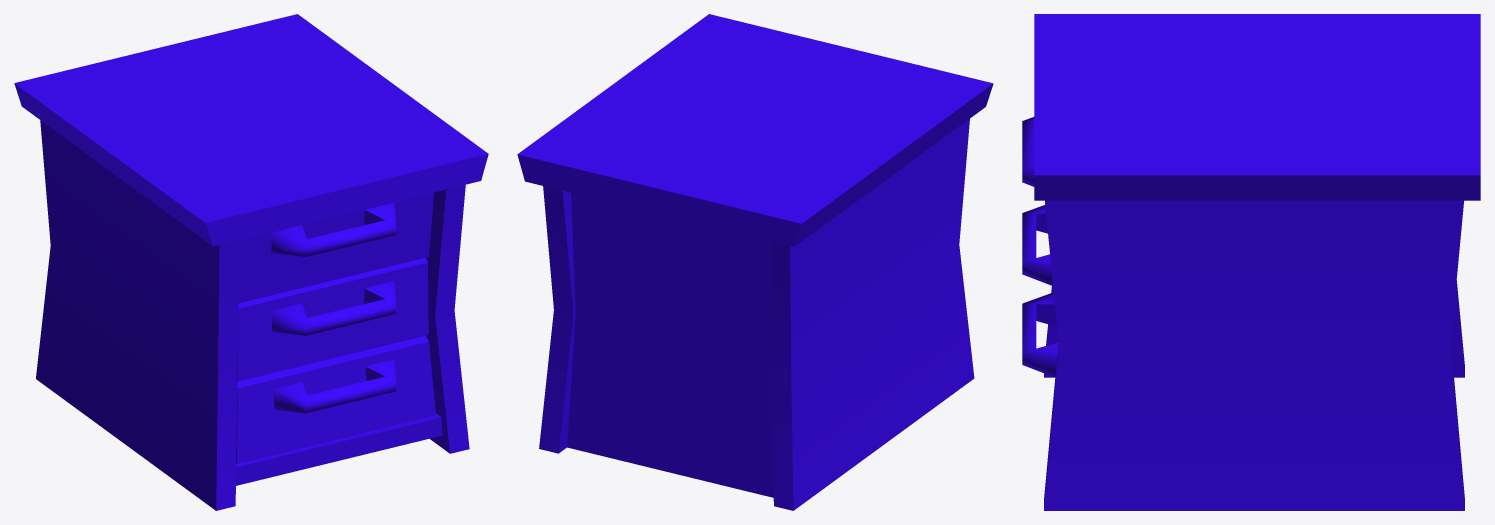
File: office_pack_drawer_small_1_meshCollider.fbx
The picture shows the model from 3 angles, left to right: view 1: azimuth 30°, elevation 25°; view 2: azimuth 150°, elevation 25°; view 3: azimuth 270°, elevation 25°; orthographic projection. The views are drawn at different scales.
Parts seen in each view (by area): view 1: office_pack_drawer_small_1_meshCollider, office_pack_drawer_small_box_3_meshCollider, office_pack_drawer_small_box_2_meshCollider, office_pack_drawer_small_box_1_meshCollider; view 2: office_pack_drawer_small_1_meshCollider; view 3: office_pack_drawer_small_1_meshCollider, office_pack_drawer_small_box_3_meshCollider, office_pack_drawer_small_box_2_meshCollider, office_pack_drawer_small_box_1_meshCollider.
Boxes of the visible parts, x1,y1,x2,y2 form: office_pack_drawer_small_1_meshCollider: (14, 14, 488, 510); office_pack_drawer_small_box_3_meshCollider: (236, 335, 435, 463); office_pack_drawer_small_box_2_meshCollider: (237, 258, 428, 381); office_pack_drawer_small_box_1_meshCollider: (238, 192, 434, 303); office_pack_drawer_small_1_meshCollider: (517, 14, 993, 510); office_pack_drawer_small_1_meshCollider: (1034, 14, 1480, 510); office_pack_drawer_small_box_3_meshCollider: (1022, 292, 1058, 377); office_pack_drawer_small_box_2_meshCollider: (1022, 205, 1052, 285); office_pack_drawer_small_box_1_meshCollider: (1022, 117, 1034, 186).
Size of the model in its own units: 40.02 by 39.75 by 47.97.
